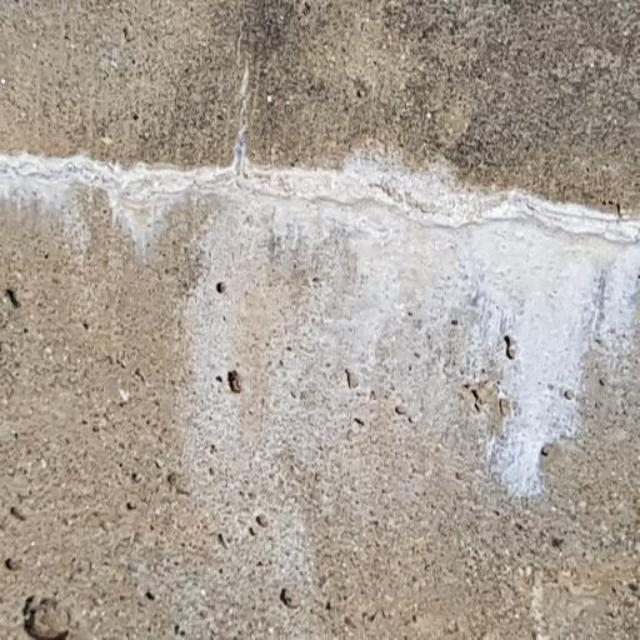D01: (6, 150, 639, 510)
